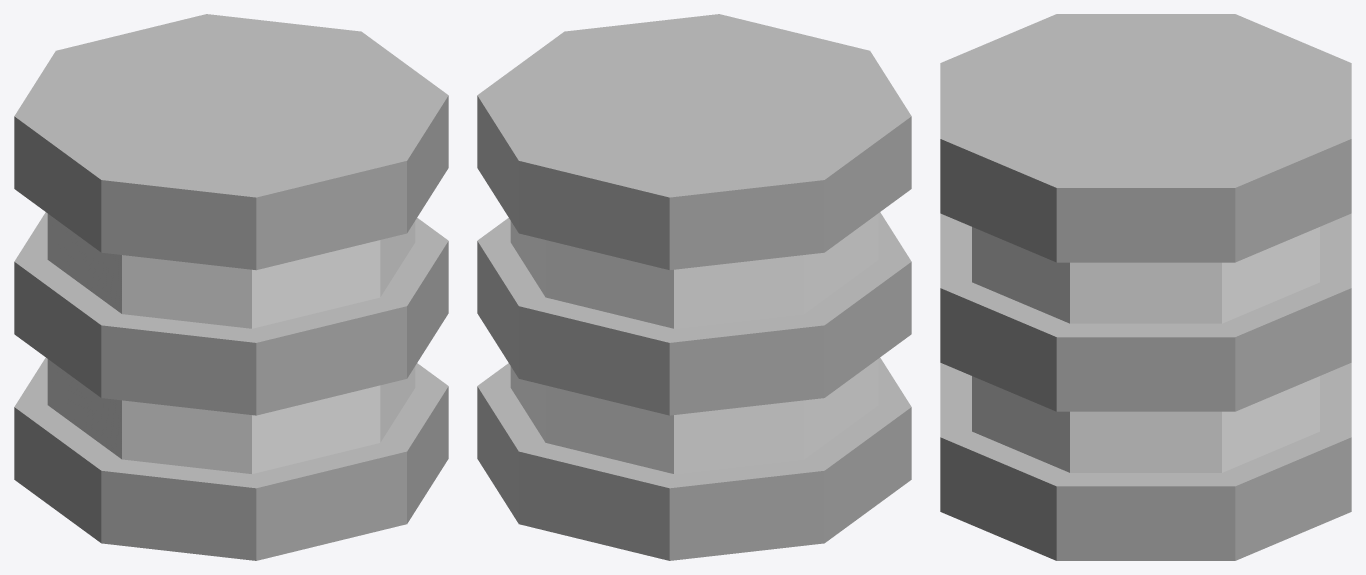
File: CasaBcn.fbx
3 views of the same model, side by side, from view 1: azimuth 30°, elevation 25°; view 2: azimuth 150°, elevation 25°; view 3: azimuth 270°, elevation 25° (orthographic). The views are drawn at different scales.
Visible parts, largest first — view 1: EdificioBarcelona; view 2: EdificioBarcelona; view 3: EdificioBarcelona.
Boxes of the visible parts, bbox=[...] form: EdificioBarcelona: bbox=[14, 14, 448, 560]; EdificioBarcelona: bbox=[477, 14, 911, 560]; EdificioBarcelona: bbox=[940, 14, 1351, 560].
Bounding box in the file's own units: 100 × 100 × 100.
